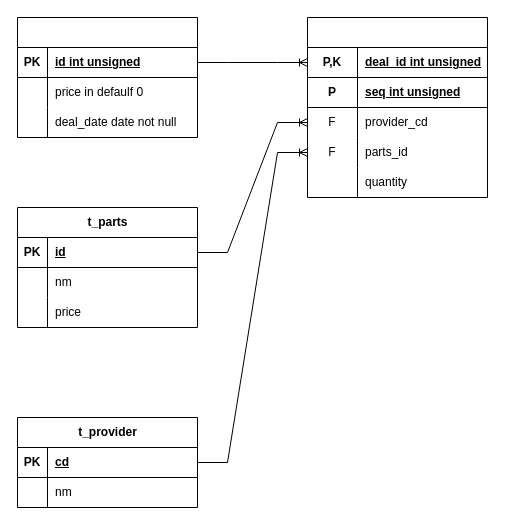
Some shapes in this 505 by 525 pixel diagram are drawn without their labels. The shapes that lost their labels are listed below. From the top down, each one's box as (x1, y1, x2, y2) in pixels, then its label:
(16, 16, 198, 138): t_deal
(306, 16, 488, 198): t_deal_sub
